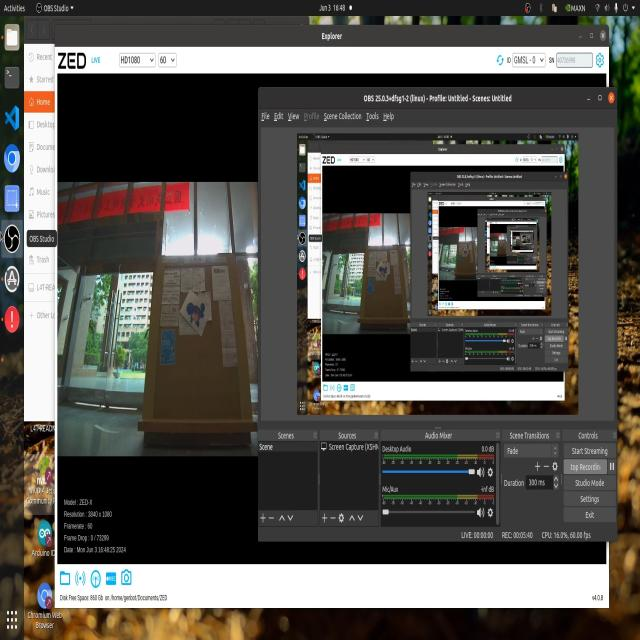blue: (181, 295, 207, 330), (380, 264, 391, 284)
